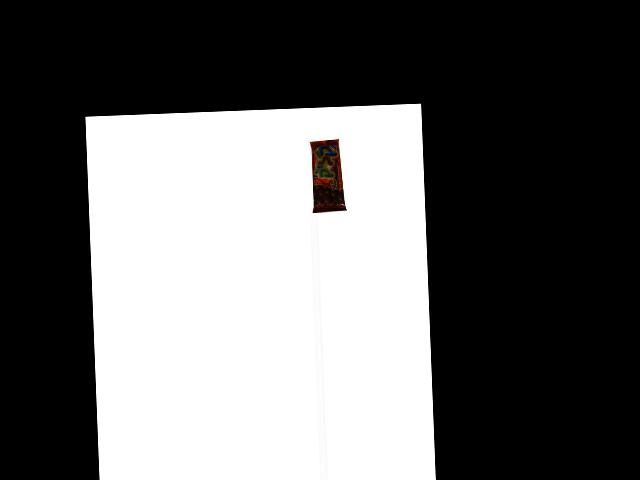chocolate: (309, 139, 345, 212)
